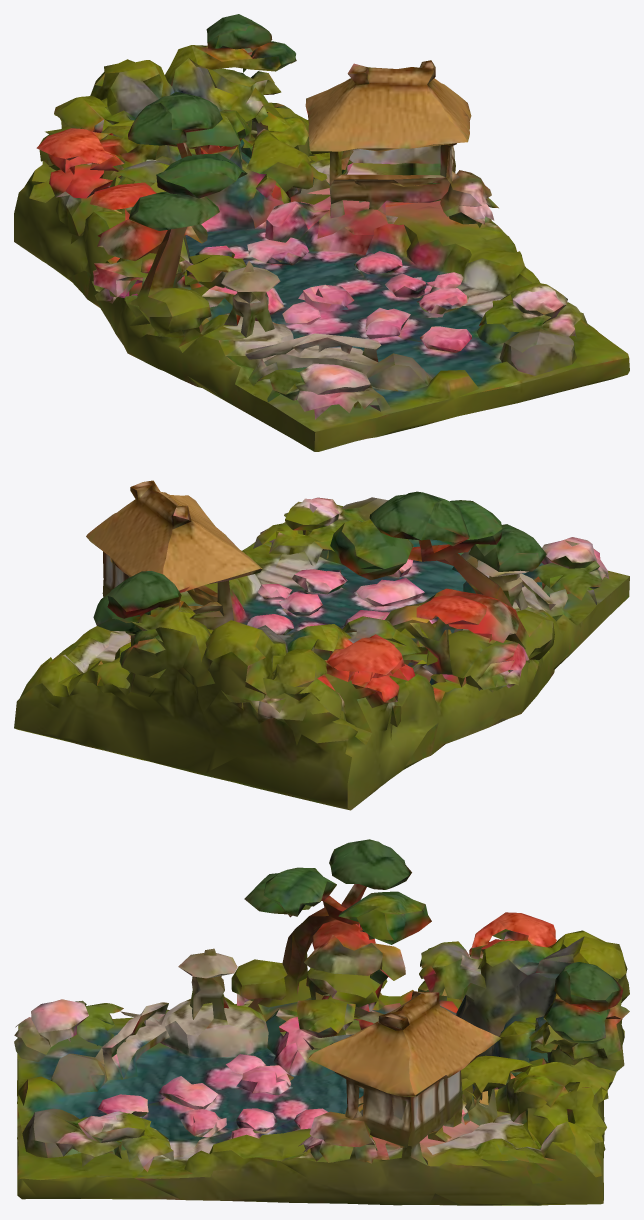
Rendered from yushien.glb.
3 views of the same model, one above another, from view 1: azimuth 30°, elevation 25°; view 2: azimuth 150°, elevation 25°; view 3: azimuth 270°, elevation 25° (orthographic).
Visible parts, largest first — view 1: logan-textured.obj; view 2: logan-textured.obj; view 3: logan-textured.obj.
Boxes of the visible parts, <box> form: logan-textured.obj: <box>14,14,629,451</box>; logan-textured.obj: <box>14,480,629,810</box>; logan-textured.obj: <box>14,839,629,1205</box>.
Bounding box in the file's own units: 0.7594 × 0.398 × 1.
1 material, 1 textured.
